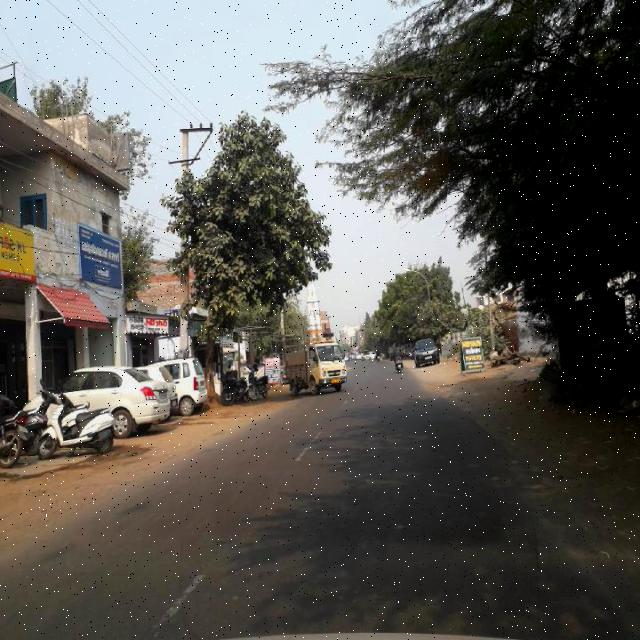D44: (151, 566, 211, 638)
